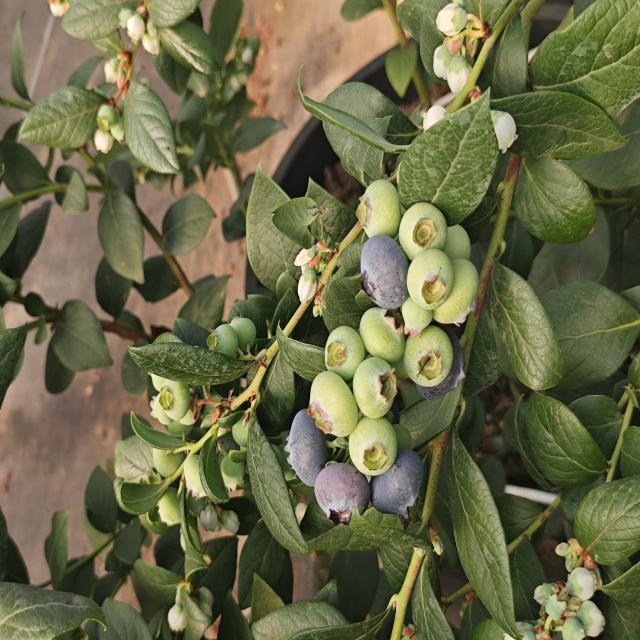ripe: (305, 461, 381, 534), (359, 225, 409, 318), (420, 329, 464, 401), (288, 415, 326, 486), (383, 450, 422, 516)
